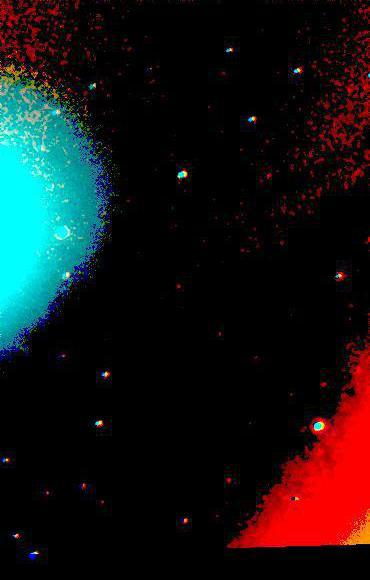star: (307, 439, 337, 469)
